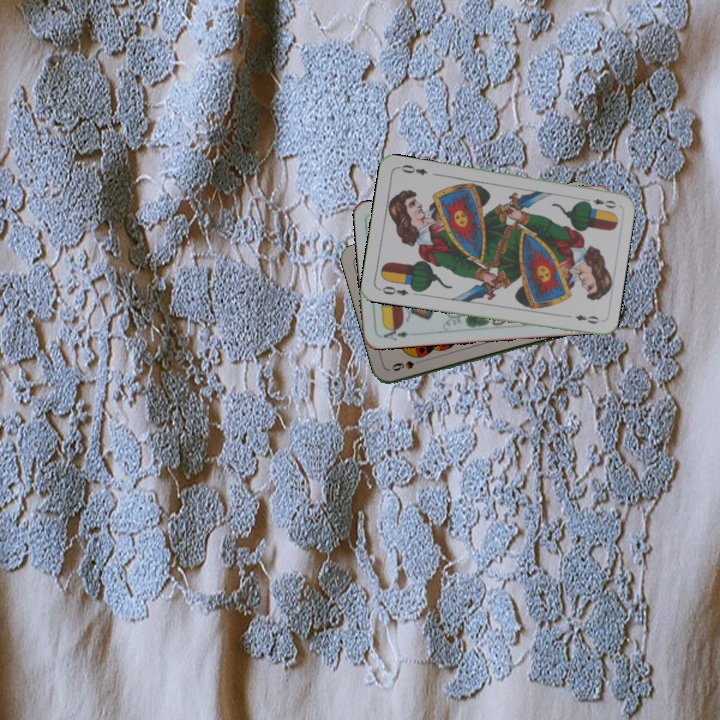EA: (380, 323, 411, 343)
EO: (579, 194, 619, 211), (375, 282, 411, 299)
S9: (388, 356, 427, 374)
